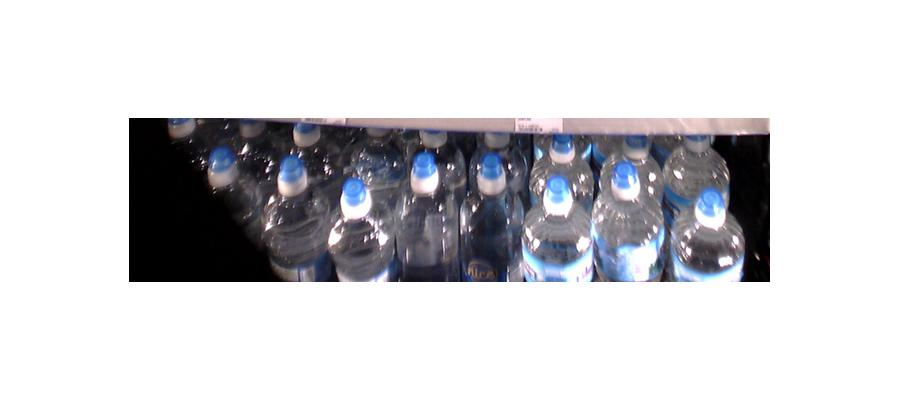bottle: (662, 129, 742, 277), (519, 136, 594, 293), (261, 122, 331, 286), (594, 140, 664, 287), (455, 140, 524, 283), (327, 138, 395, 279), (393, 143, 458, 276)
